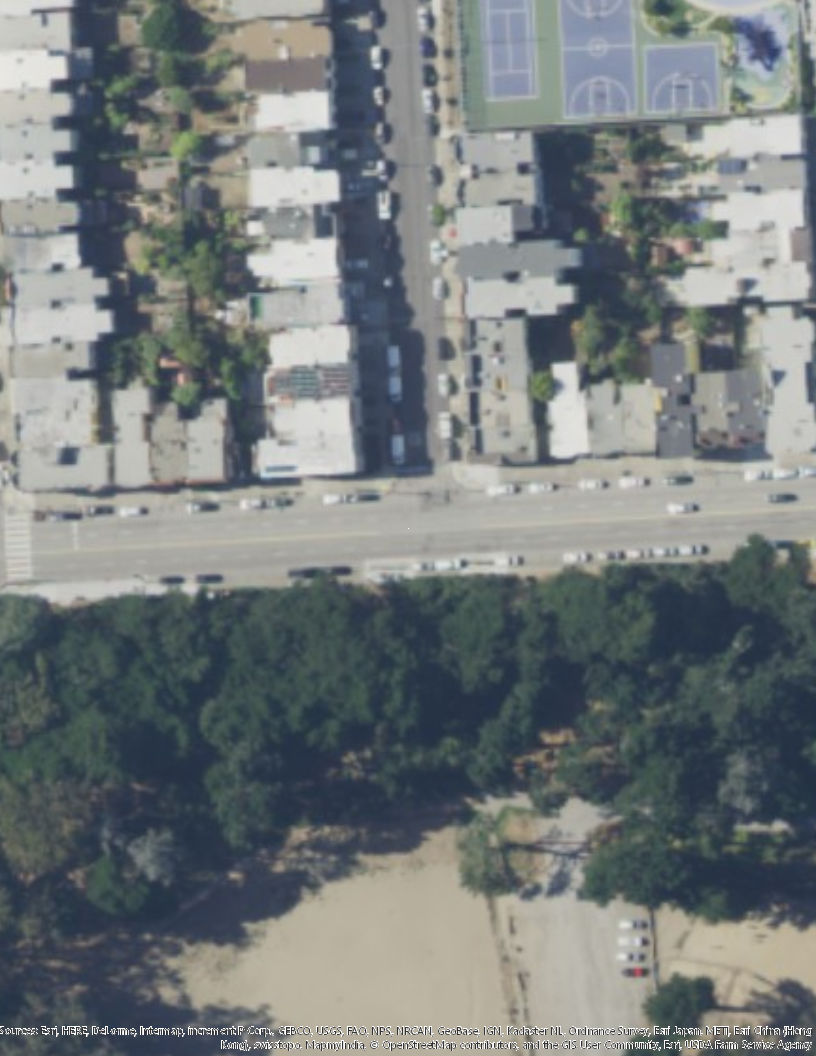zebracross: (3, 512, 34, 582)
